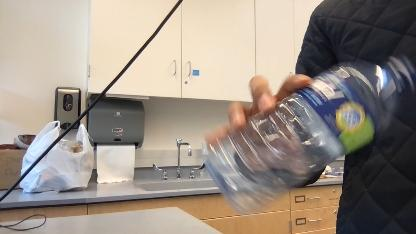Plastic Bottle: (200, 55, 416, 215)
